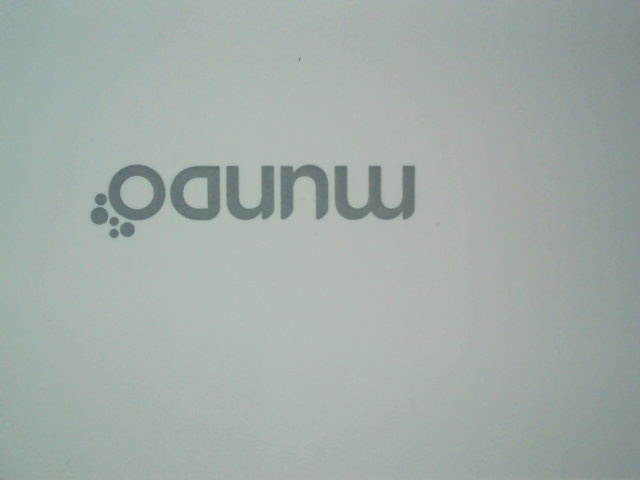BI_MUNDO: (79, 140, 432, 248)
